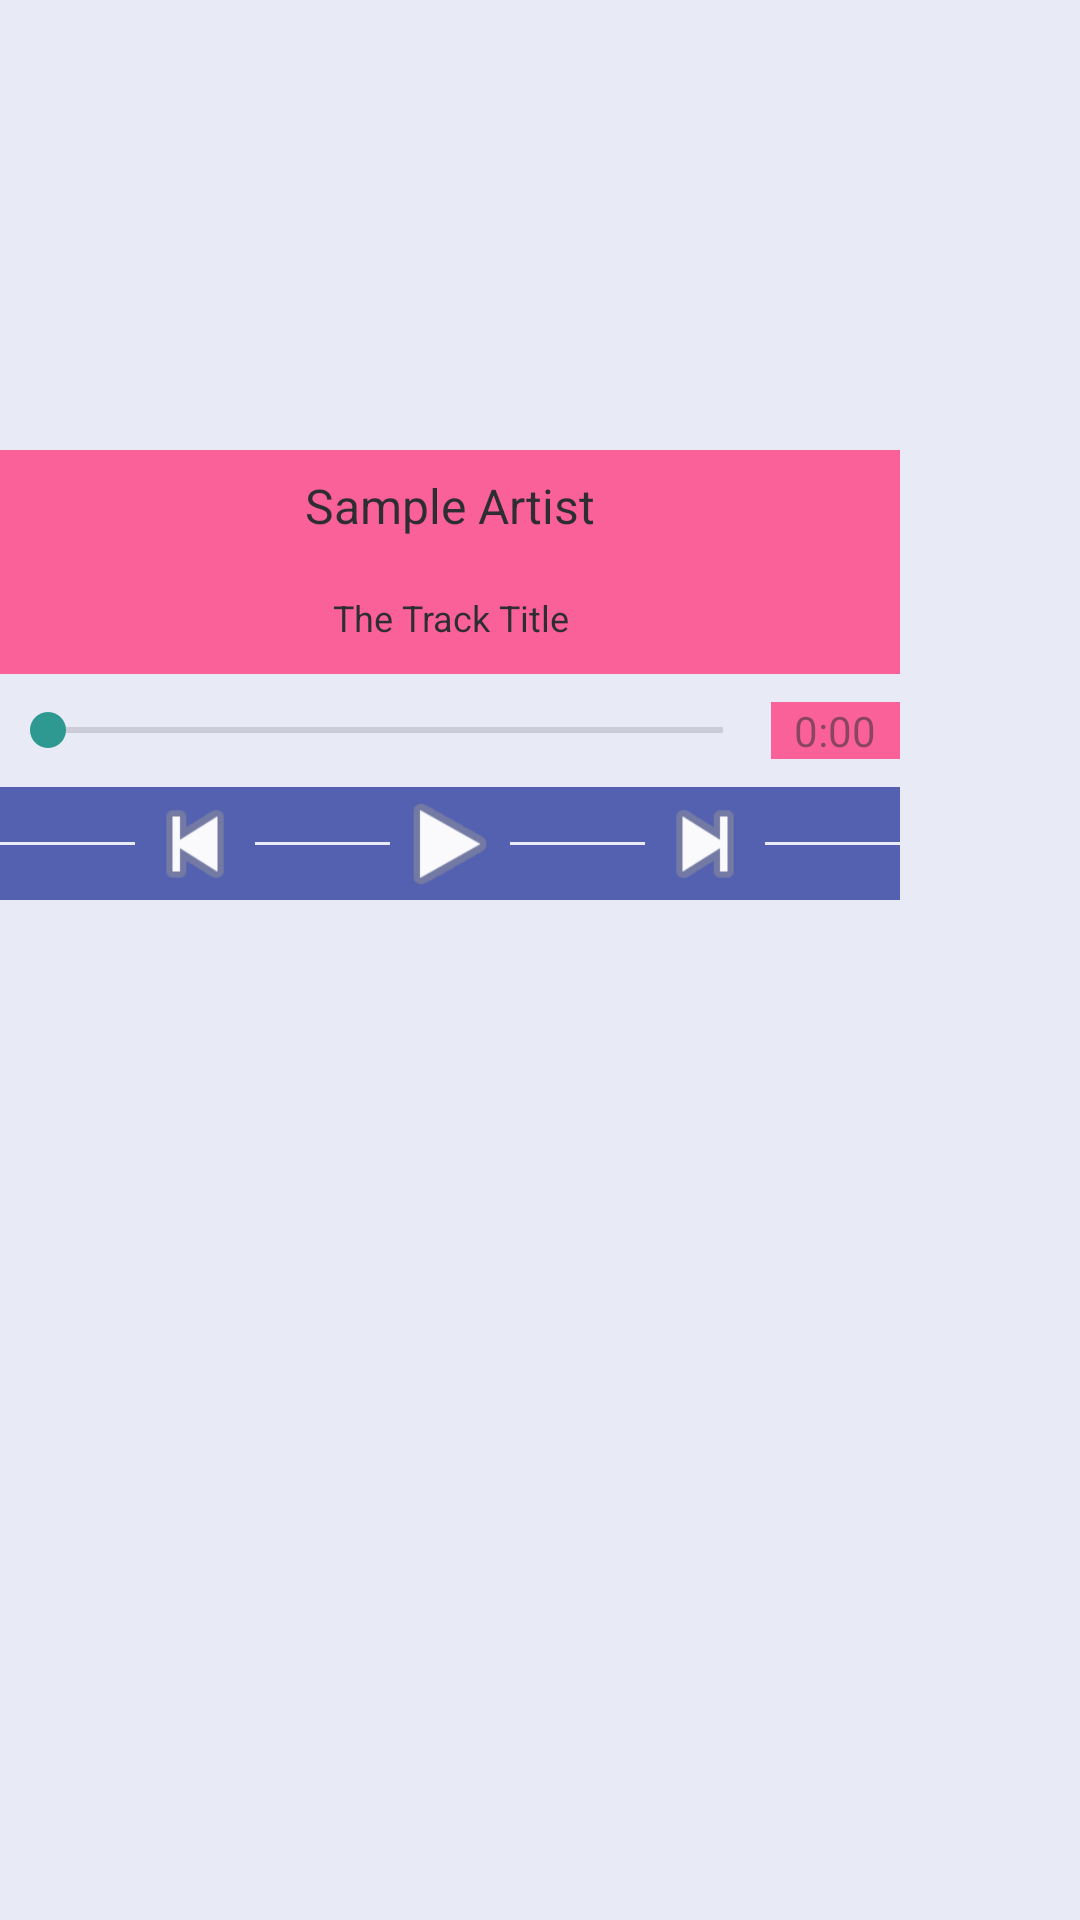

Icons on this 1080x1920 Android screen, each with its box as {"left": x1, "top": y1, "right": x2, "bottom": y2}:
next: {"left": 677, "top": 811, "right": 733, "bottom": 877}
play: {"left": 414, "top": 804, "right": 486, "bottom": 884}
previous: {"left": 167, "top": 811, "right": 223, "bottom": 877}
